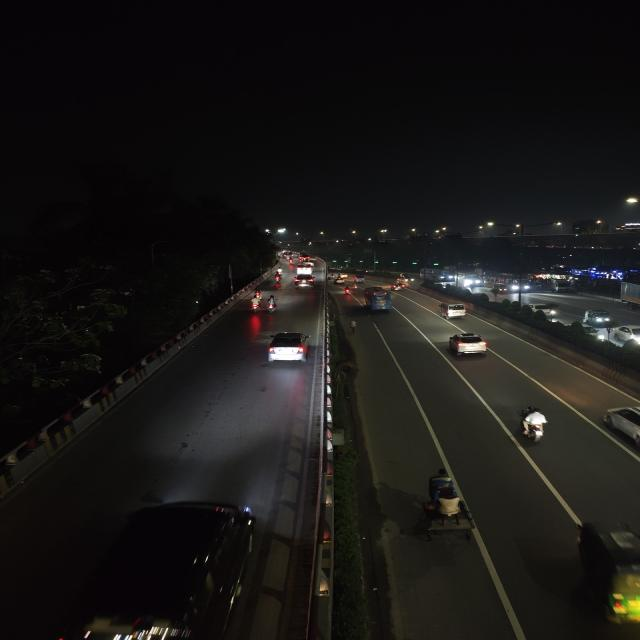bus: (488, 275, 531, 293), (363, 287, 393, 312), (422, 267, 451, 284), (459, 272, 483, 287)
car: (73, 492, 264, 640), (600, 401, 640, 458), (264, 330, 313, 366), (445, 331, 491, 358), (611, 323, 640, 349), (294, 274, 315, 288), (295, 263, 314, 275), (391, 281, 408, 291)
cng: (569, 515, 640, 630), (438, 300, 471, 320), (580, 307, 612, 327)
motorcycle: (512, 404, 554, 446), (265, 296, 279, 314), (249, 291, 263, 309), (248, 298, 261, 312), (252, 288, 264, 300), (343, 286, 354, 296), (274, 269, 284, 279)
pedestrian: (348, 319, 360, 335)
rickshaw: (410, 492, 486, 544)
truck: (618, 276, 640, 311), (550, 277, 574, 292)
